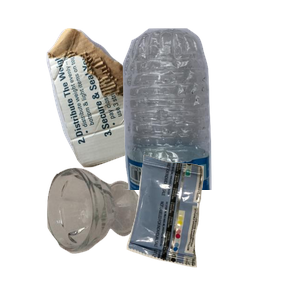cardboard: (44, 26, 209, 186)
glass: (44, 165, 178, 300)
plastic: (111, 26, 300, 206)
trash: (124, 152, 300, 300)
